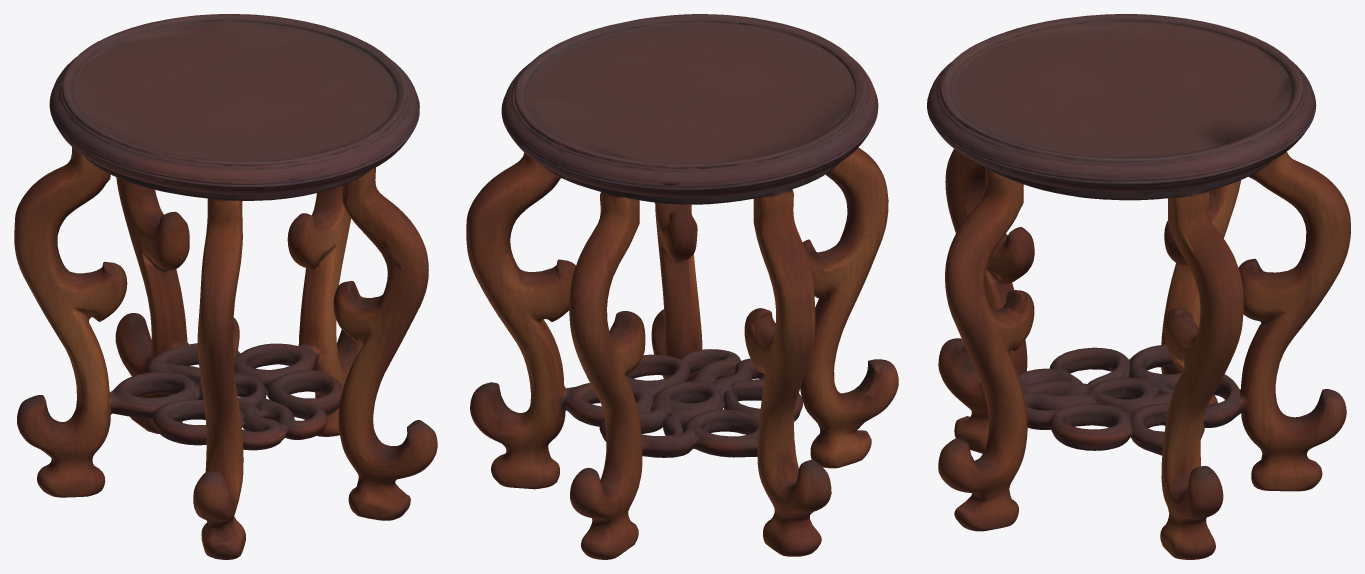
The picture shows the model from 3 angles, left to right: view 1: azimuth 30°, elevation 25°; view 2: azimuth 150°, elevation 25°; view 3: azimuth 270°, elevation 25°; orthographic projection.
Visible parts, largest first — view 1: node_0; view 2: node_0; view 3: node_0.
Boxes of the visible parts, x1,y1,x2,y2 form: node_0: [14, 14, 437, 559]; node_0: [466, 14, 898, 559]; node_0: [927, 14, 1350, 559].
Size of the model in its own units: 0.8217 by 0.8764 by 0.8469.
Materials: 1 (1 with a texture image).
